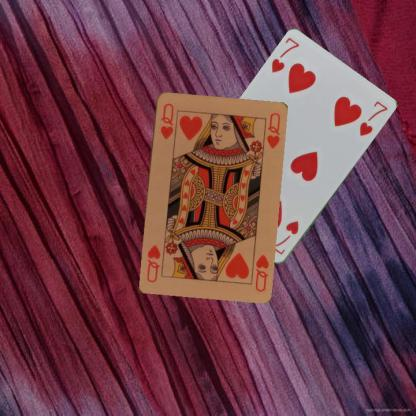7h: (269, 35, 301, 74), (268, 219, 301, 256)
Qh: (252, 251, 270, 293), (157, 100, 175, 141)
